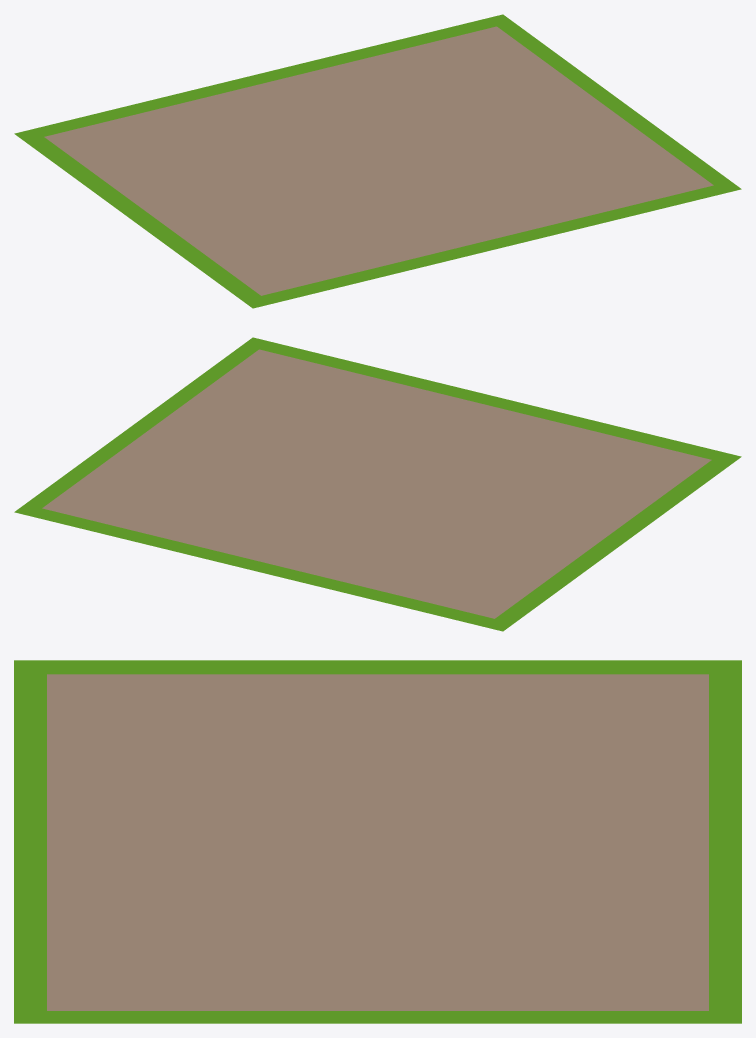
The model's file is Chao.fbx.
The picture shows the model from 3 angles, top to bottom: view 1: azimuth 30°, elevation 25°; view 2: azimuth 150°, elevation 25°; view 3: azimuth 270°, elevation 25°; orthographic projection. The views are drawn at different scales.
Parts seen in each view (by area): view 1: Chão, Base solo; view 2: Chão, Base solo; view 3: Chão, Base solo.
Boxes of the visible parts, x1=… form: Chão: x1=44, y1=26, x2=713, y2=295; Base solo: x1=14, y1=14, x2=741, y2=308; Chão: x1=42, y1=349, x2=711, y2=618; Base solo: x1=14, y1=337, x2=741, y2=631; Chão: x1=47, y1=674, x2=708, y2=1010; Base solo: x1=14, y1=660, x2=741, y2=1023.
Size of the model in its own units: 13000 by 2.11 by 11000.
